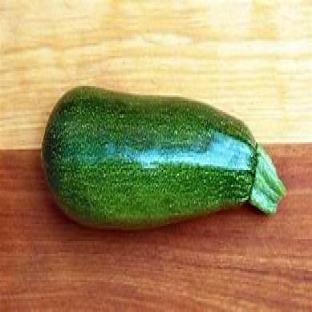Zucchini: (42, 86, 284, 229)
